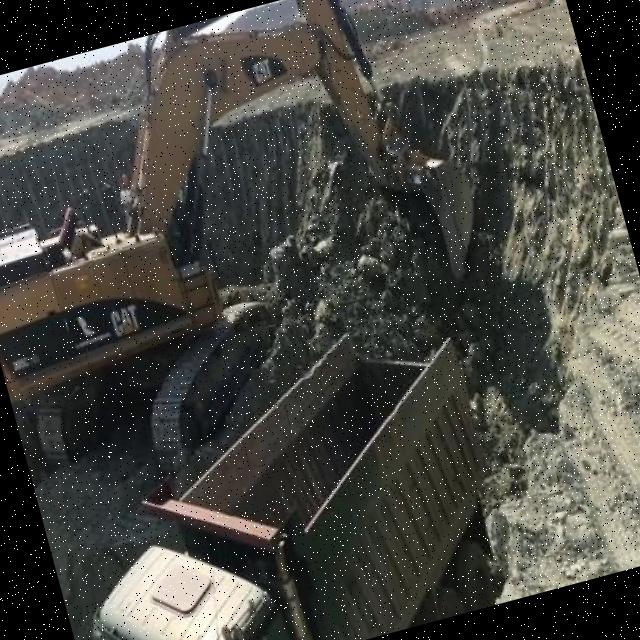Dump Truck: (28, 300, 522, 640)
Excavator: (0, 0, 526, 513)
